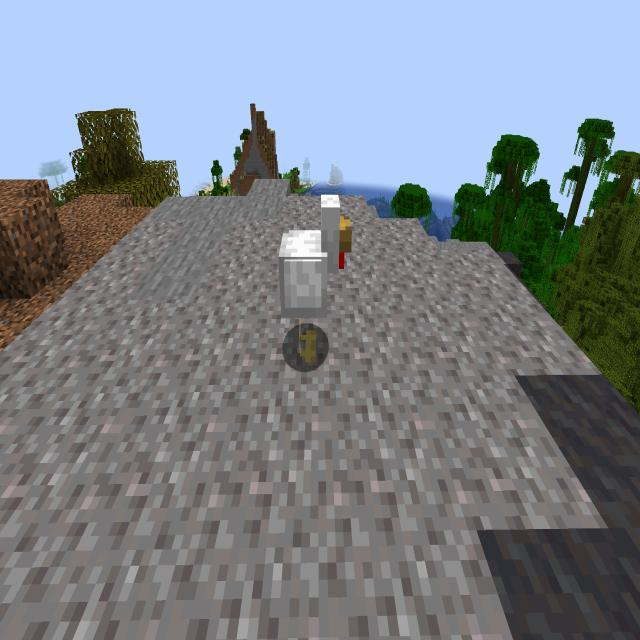chicken: (266, 178, 360, 382)
